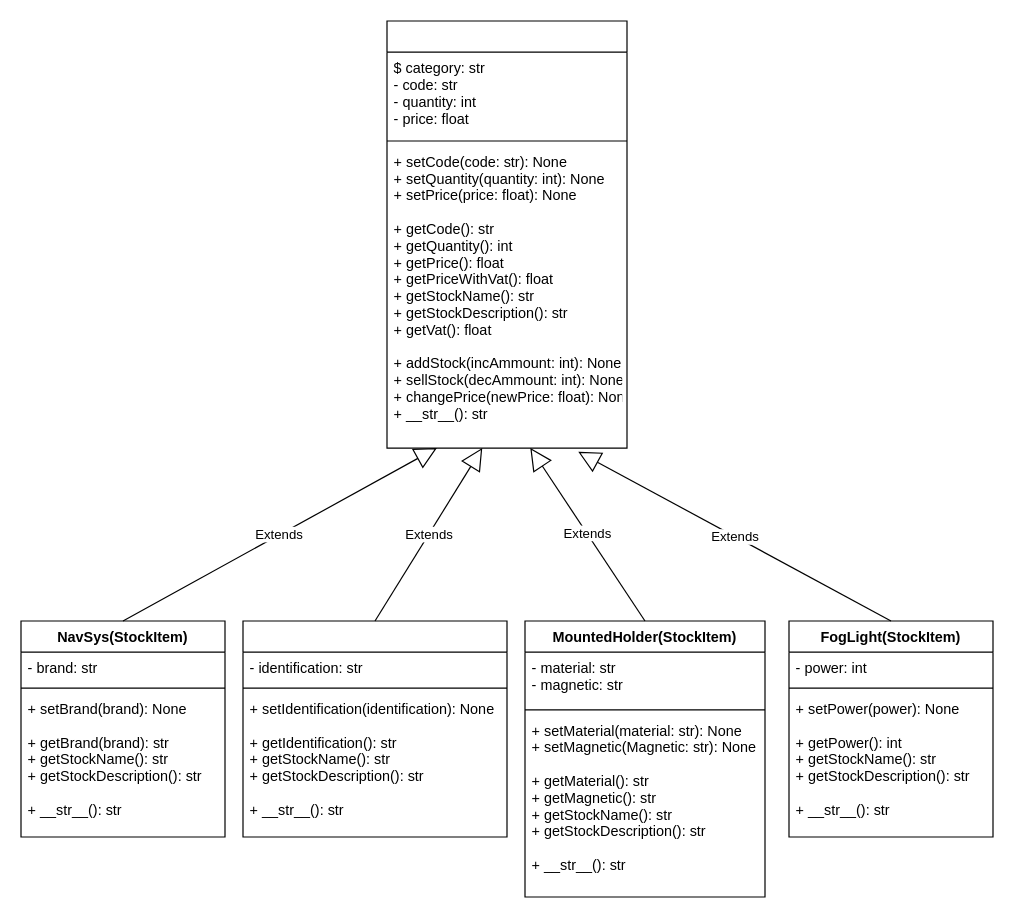
The diagram is 1014 pixels wide and 922 high, and some of its shapes have lost their labels. The box of each missing label's shape, as (x1, y1, x2, y2) in pixels:
StockItem: (386, 20, 627, 448)
Tire(StockItem): (242, 620, 507, 837)
